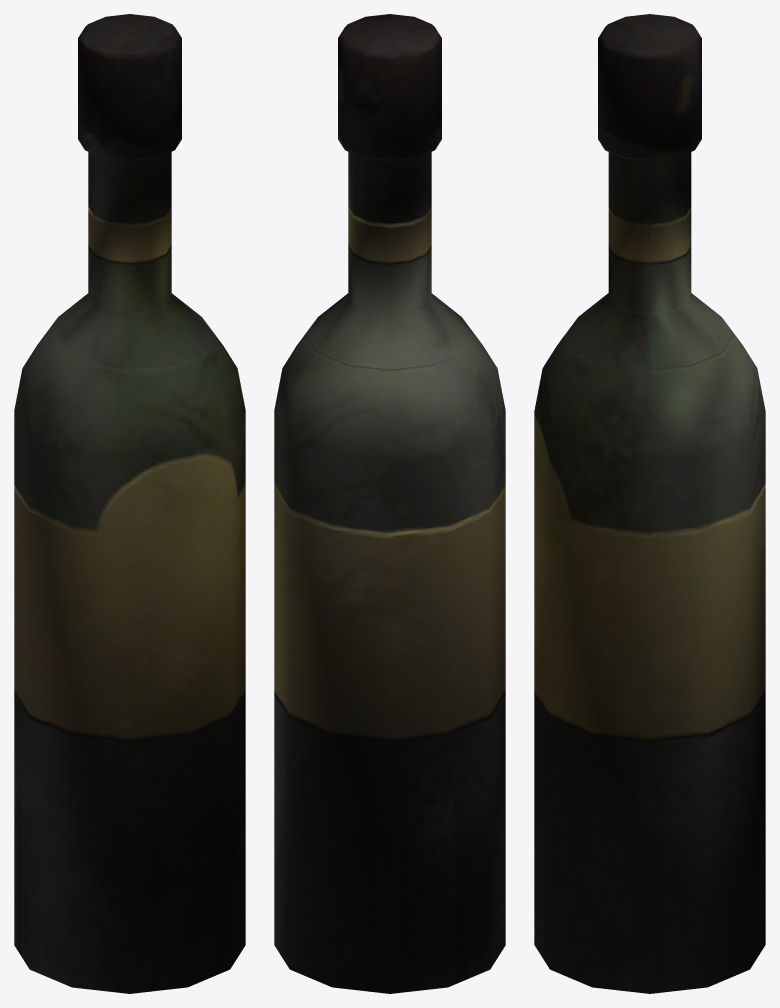
File: GeneralStore_Bottle_03.obj
3 views of the same model, side by side, from view 1: azimuth 30°, elevation 25°; view 2: azimuth 150°, elevation 25°; view 3: azimuth 270°, elevation 25° (orthographic).
Parts seen in each view (by area): view 1: Model_GeneralStore_Bottle_03; view 2: Model_GeneralStore_Bottle_03; view 3: Model_GeneralStore_Bottle_03.
Boxes of the visible parts, x1,y1,x2,y2 form: Model_GeneralStore_Bottle_03: [14, 14, 245, 993]; Model_GeneralStore_Bottle_03: [274, 14, 505, 993]; Model_GeneralStore_Bottle_03: [534, 14, 765, 993].
Bounding box in the file's own units: 0.1489 × 0.6458 × 0.1486.
Materials: 1 (1 with a texture image).
